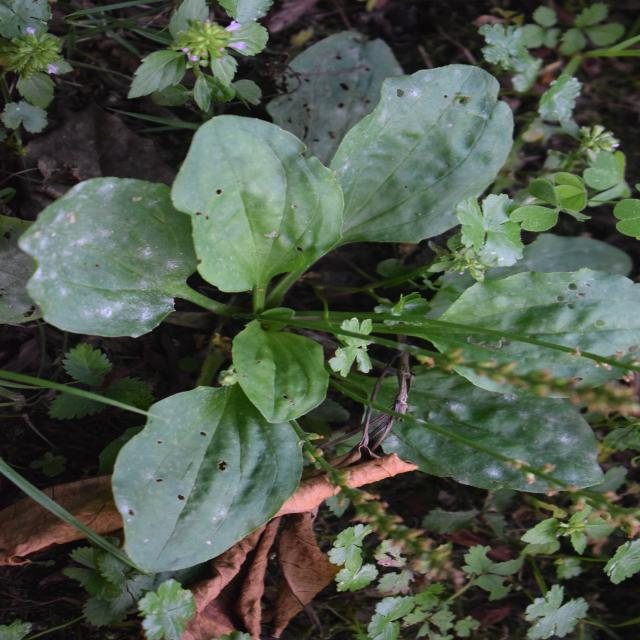plantain: (75, 21, 538, 591)
